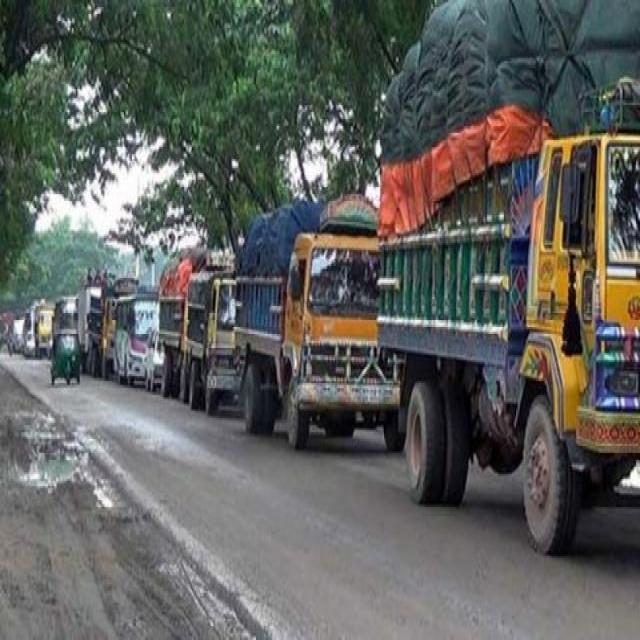16-Wheelers: (374, 0, 639, 554)
